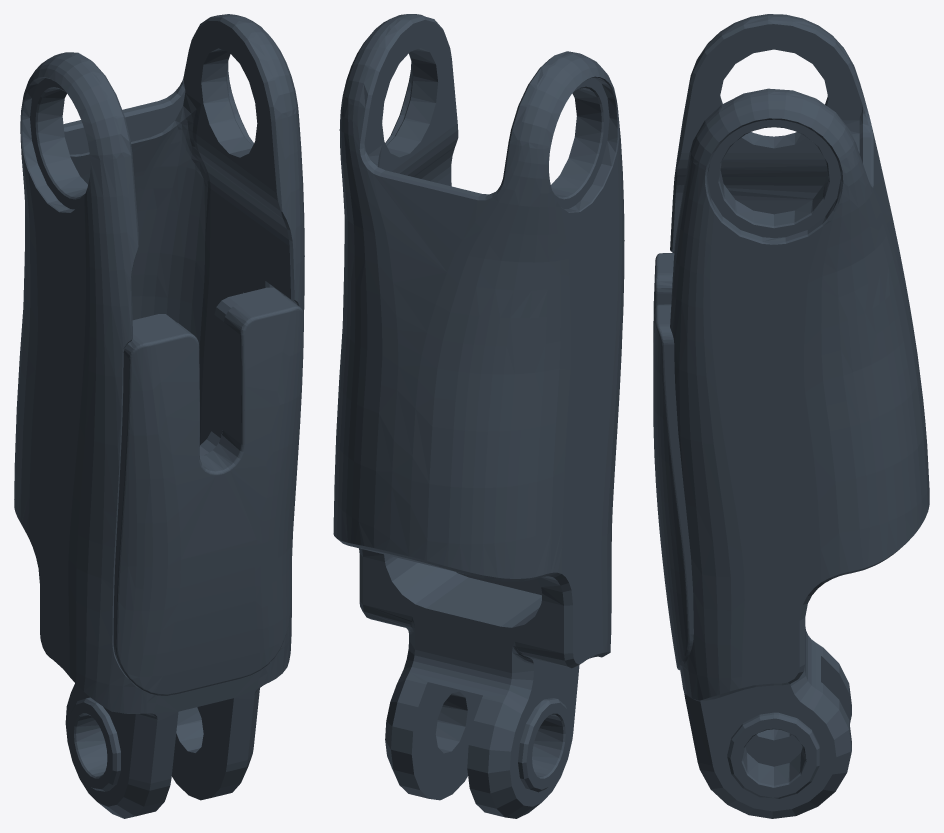
The model's file is mf_mcp_pitch_link.glb.
3 renders of one model, left to right at view 1: azimuth 30°, elevation 25°; view 2: azimuth 150°, elevation 25°; view 3: azimuth 270°, elevation 25°, orthographic. The views are drawn at different scales.
Parts seen in each view (by area): view 1: mf_mcp_pitch; view 2: mf_mcp_pitch; view 3: mf_mcp_pitch.
Part boxes in pixels (box(x1,y1,x2,y2)): mf_mcp_pitch: box(14, 14, 304, 818); mf_mcp_pitch: box(333, 14, 624, 818); mf_mcp_pitch: box(653, 14, 929, 818).
Bounding box in the file's own units: 0.0154 × 0.0525 × 0.0177.
